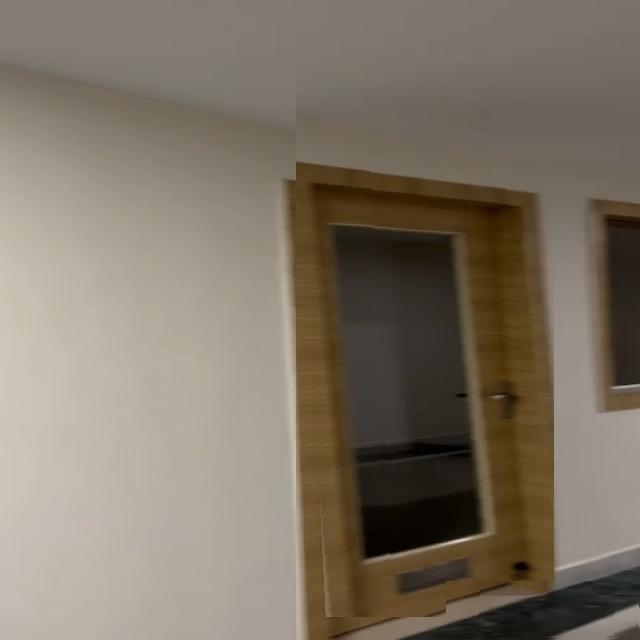door: (302, 159, 554, 617)
floor: (446, 581, 640, 640)
wall: (6, 51, 296, 640)
